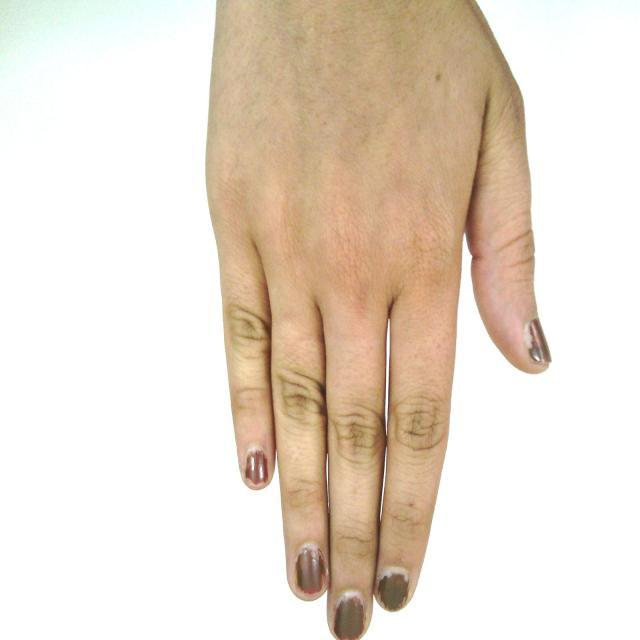Fingernail: (295, 543, 325, 597), (335, 591, 365, 639), (377, 567, 409, 611), (525, 318, 552, 363), (246, 446, 268, 488)
